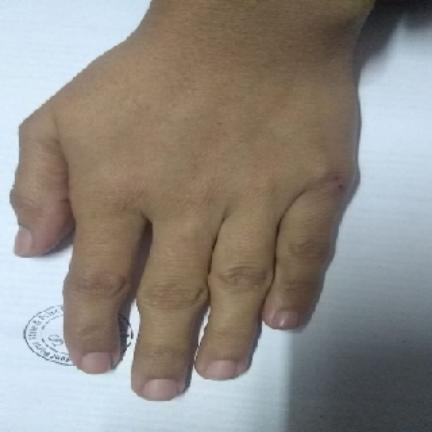Nail: (141, 379, 177, 401), (82, 350, 112, 374), (206, 359, 237, 380), (14, 226, 34, 258), (272, 310, 298, 329)
